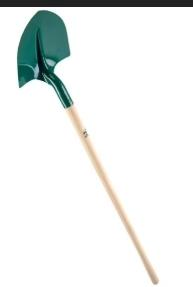PELLE: (11, 9, 191, 287)
